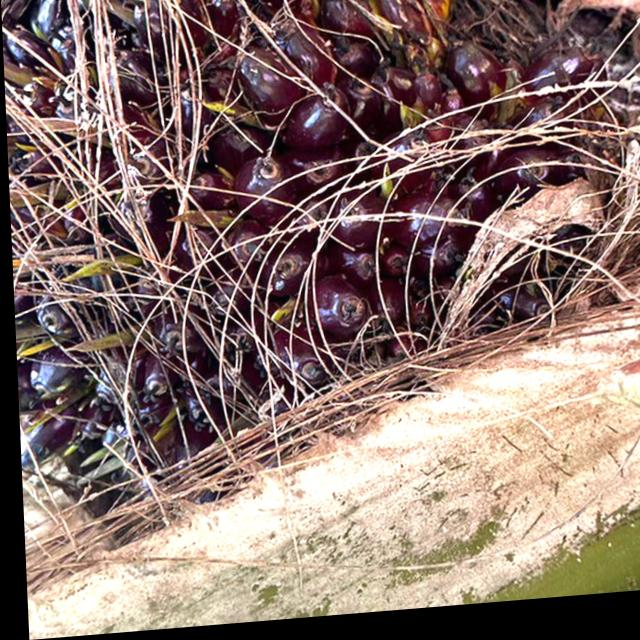almost: (0, 0, 596, 528)
